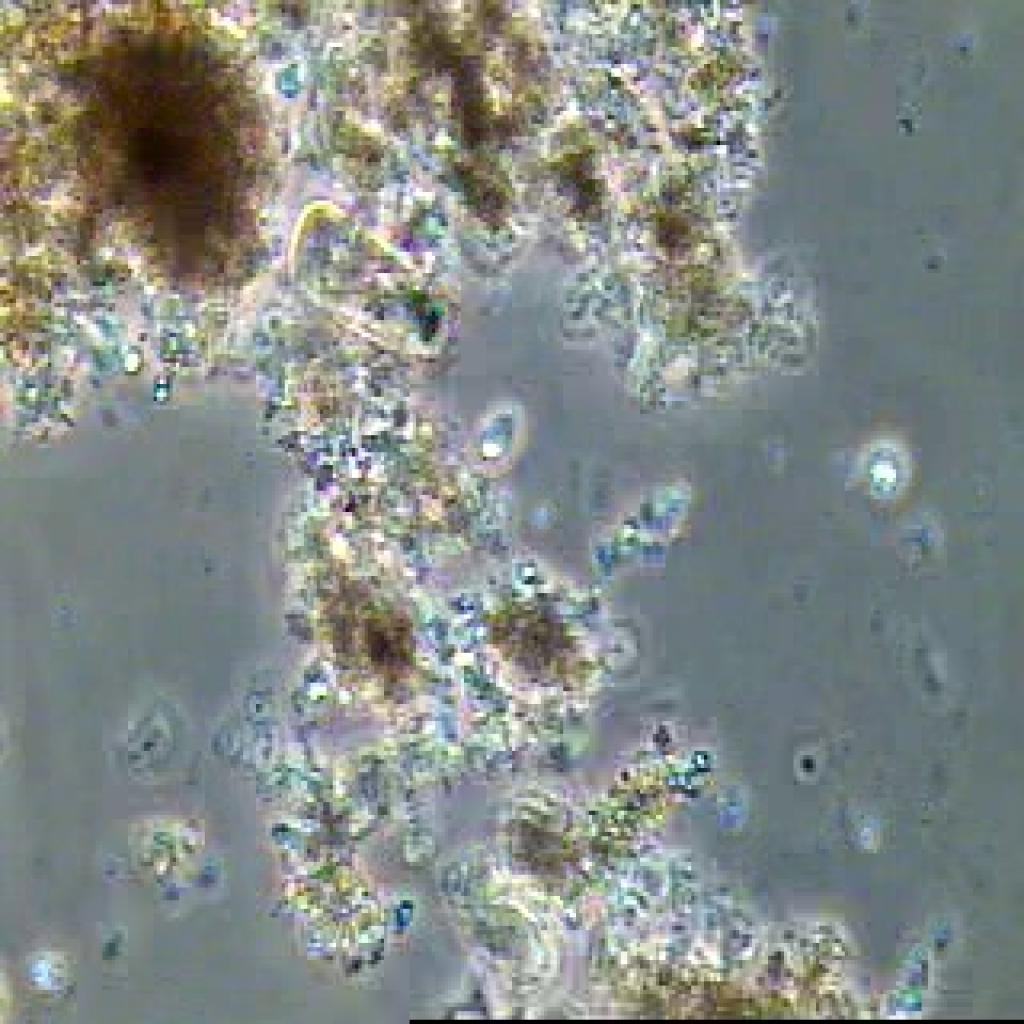Paramecium: (275, 188, 461, 367)
